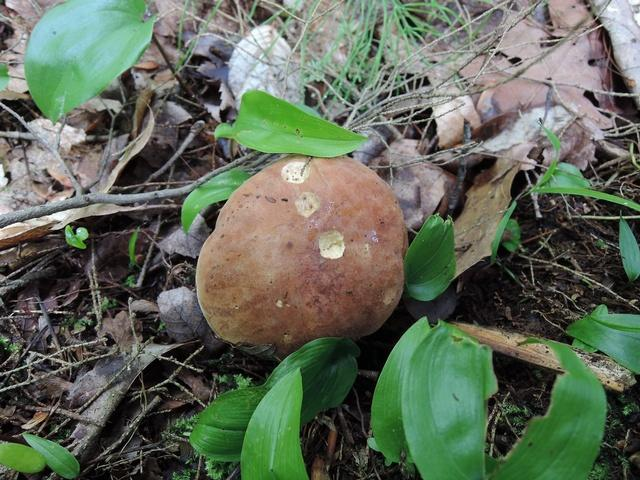Non-edible Mushroom: (194, 152, 409, 358)
